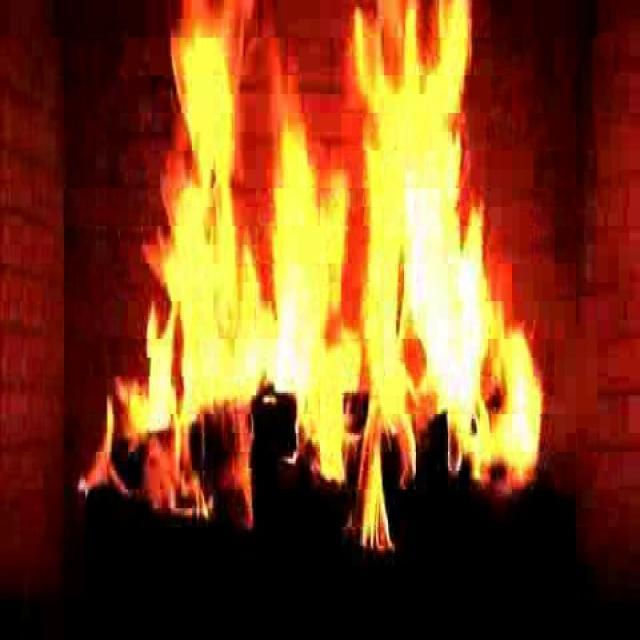Fire: (101, 0, 640, 546)
